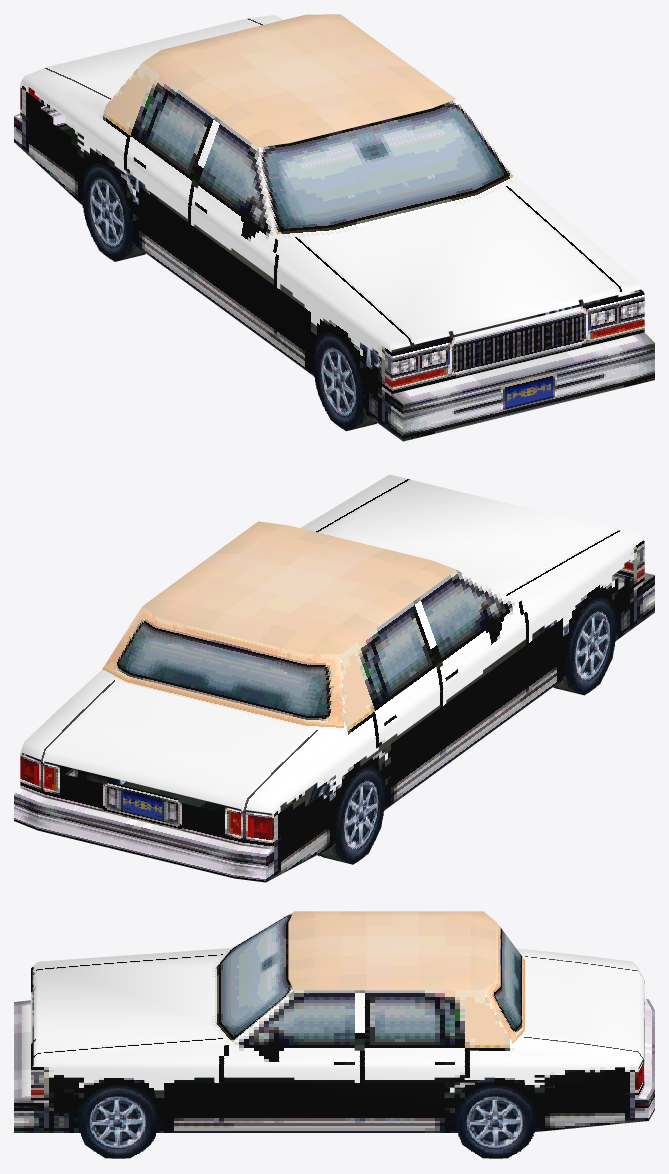
Rendered from traffic-194.glb.
3 renders of one model, top to bottom at view 1: azimuth 30°, elevation 25°; view 2: azimuth 150°, elevation 25°; view 3: azimuth 270°, elevation 25°, orthographic. The views are drawn at different scales.
Visible parts, largest first — view 1: body, front axle wheels, rear axle wheels; view 2: body, rear axle wheels, front axle wheels; view 3: body, rear axle wheels, front axle wheels.
Part boxes in pixels (box(x1,y1,x2,y2)): body: box(14, 14, 654, 441); front axle wheels: box(313, 305, 578, 429); rear axle wheels: box(82, 163, 158, 260); body: box(14, 474, 654, 882); rear axle wheels: box(111, 766, 385, 863); front axle wheels: box(540, 597, 616, 694); body: box(14, 911, 654, 1158); rear axle wheels: box(455, 1077, 536, 1158); front axle wheels: box(78, 1080, 158, 1158).
Size of the model in its own units: 20.16 by 15.18 by 54.
6 materials, 6 textured.
